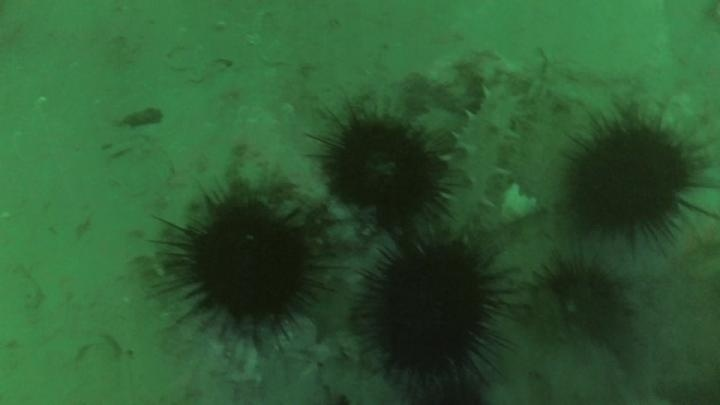echinus: (352, 231, 517, 393), (158, 192, 330, 343), (559, 113, 705, 248), (310, 105, 450, 227), (532, 253, 631, 344)
holothurian: (437, 80, 527, 234)
